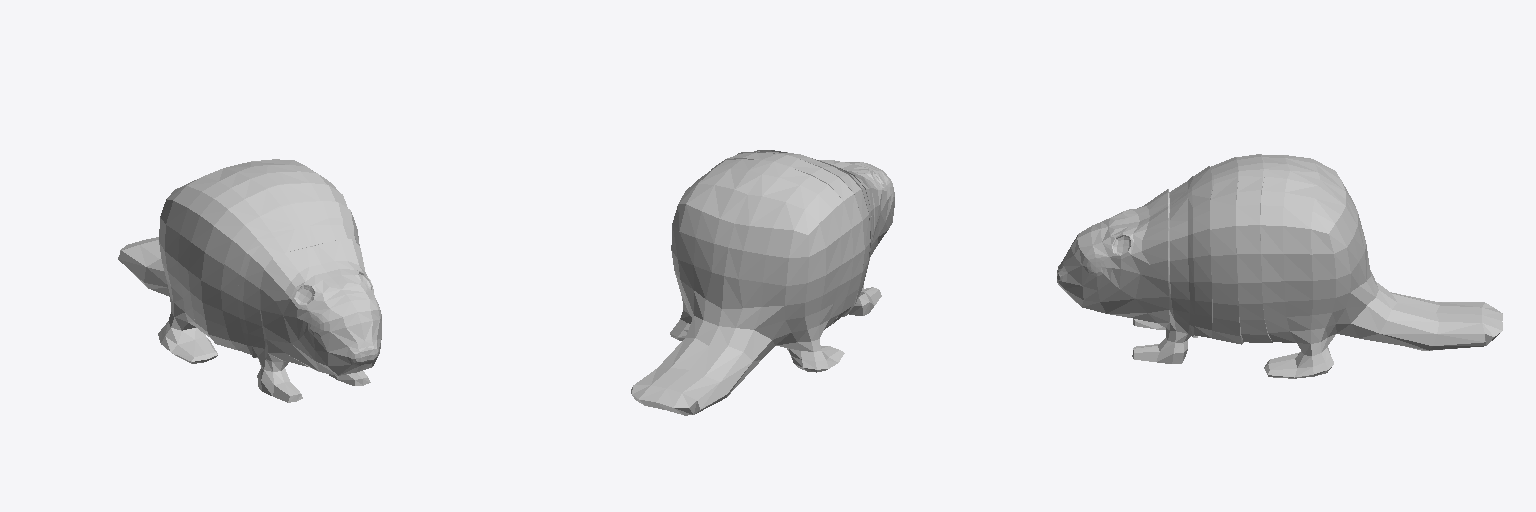
The model's file is Beaver.obj.
3 views of the same model, side by side, from view 1: azimuth 30°, elevation 25°; view 2: azimuth 150°, elevation 25°; view 3: azimuth 270°, elevation 25° (orthographic).
Visible parts, largest first — view 1: Beaver; view 2: Beaver; view 3: Beaver.
Boxes of the visible parts, <box> form: Beaver: <box>118,159,381,402</box>; Beaver: <box>631,150,894,415</box>; Beaver: <box>1057,154,1502,378</box>.
Size of the model in its own units: 0.1236 by 0.1326 by 0.305.